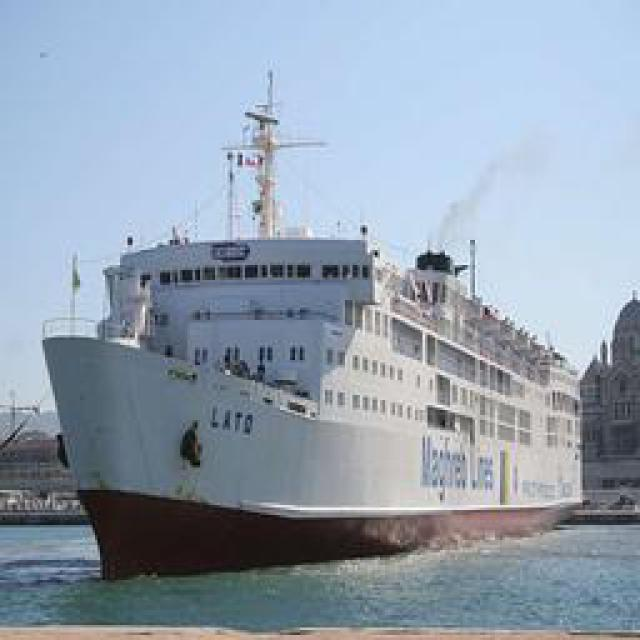Ship: (43, 72, 601, 562)
